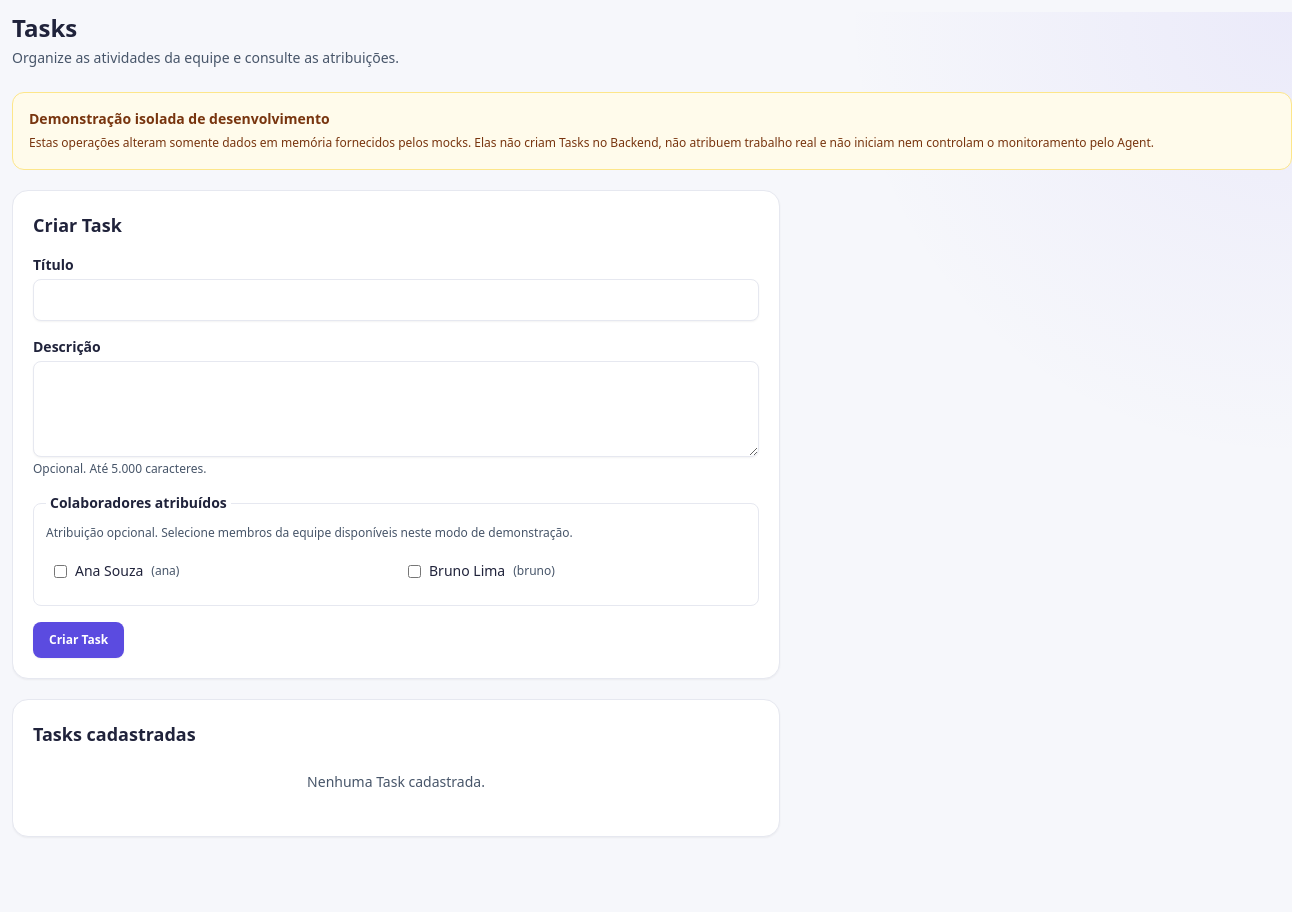
TasksPage › valida os campos e cria uma Task com seleção múltipla nos mocks
Expected: the text "Nenhuma Task cadastrada." is shown, [307,772,485,791]
Click the button "Criar Task": (79, 640) [33,622,124,658]
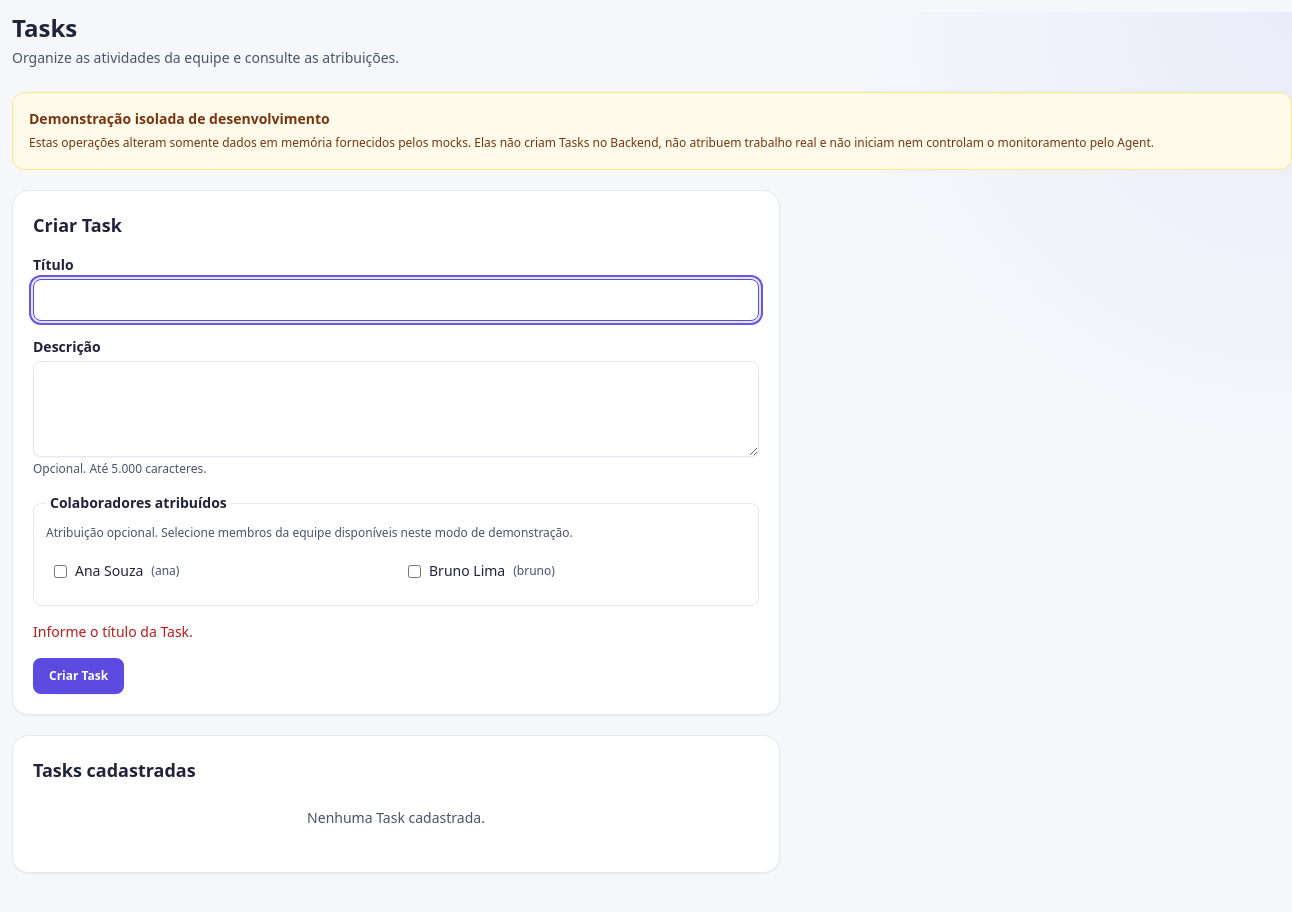
Expected: the message shows "Informe o título", [33,622,193,641]
In the field labelled "Título": (396, 300) [33,279,759,321], type "  Revisão do produto  "
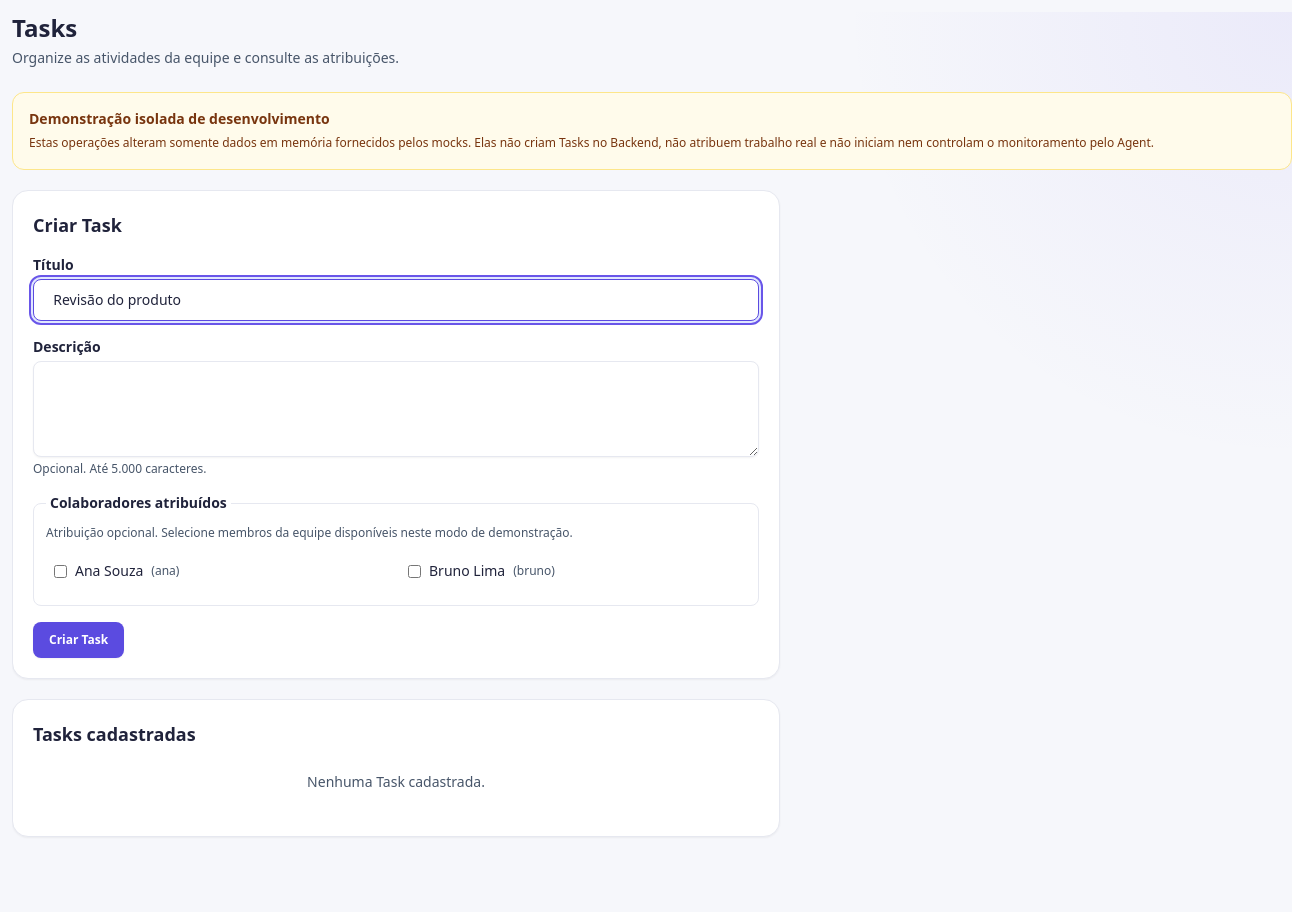
In the text box labelled "Descrição": (396, 409) [33,361,759,457], type "  Conferir as entregas da sprint  "
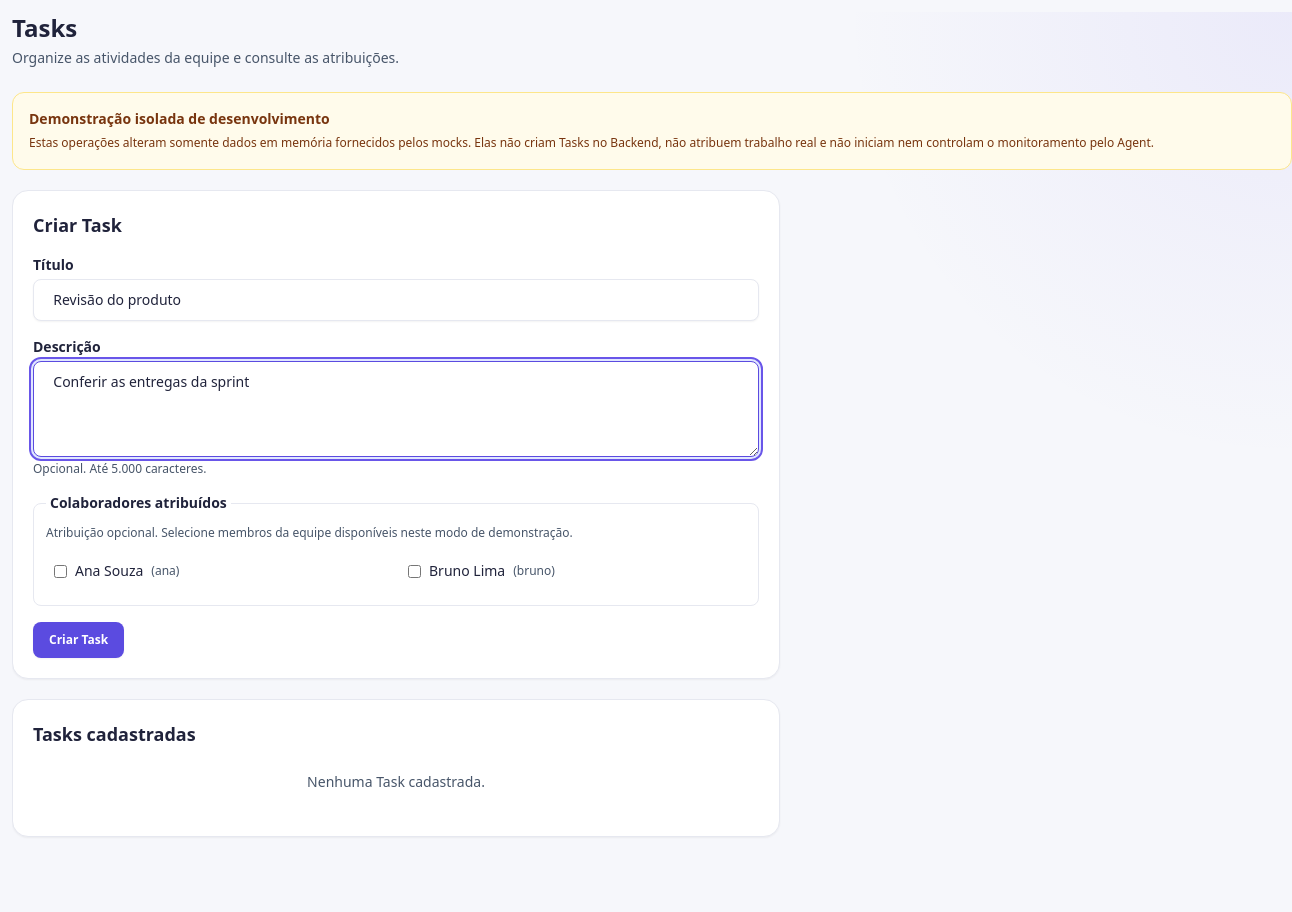
Click the checkbox labelled "Ana Souza (ana)": (60, 571) [54,564,67,578]
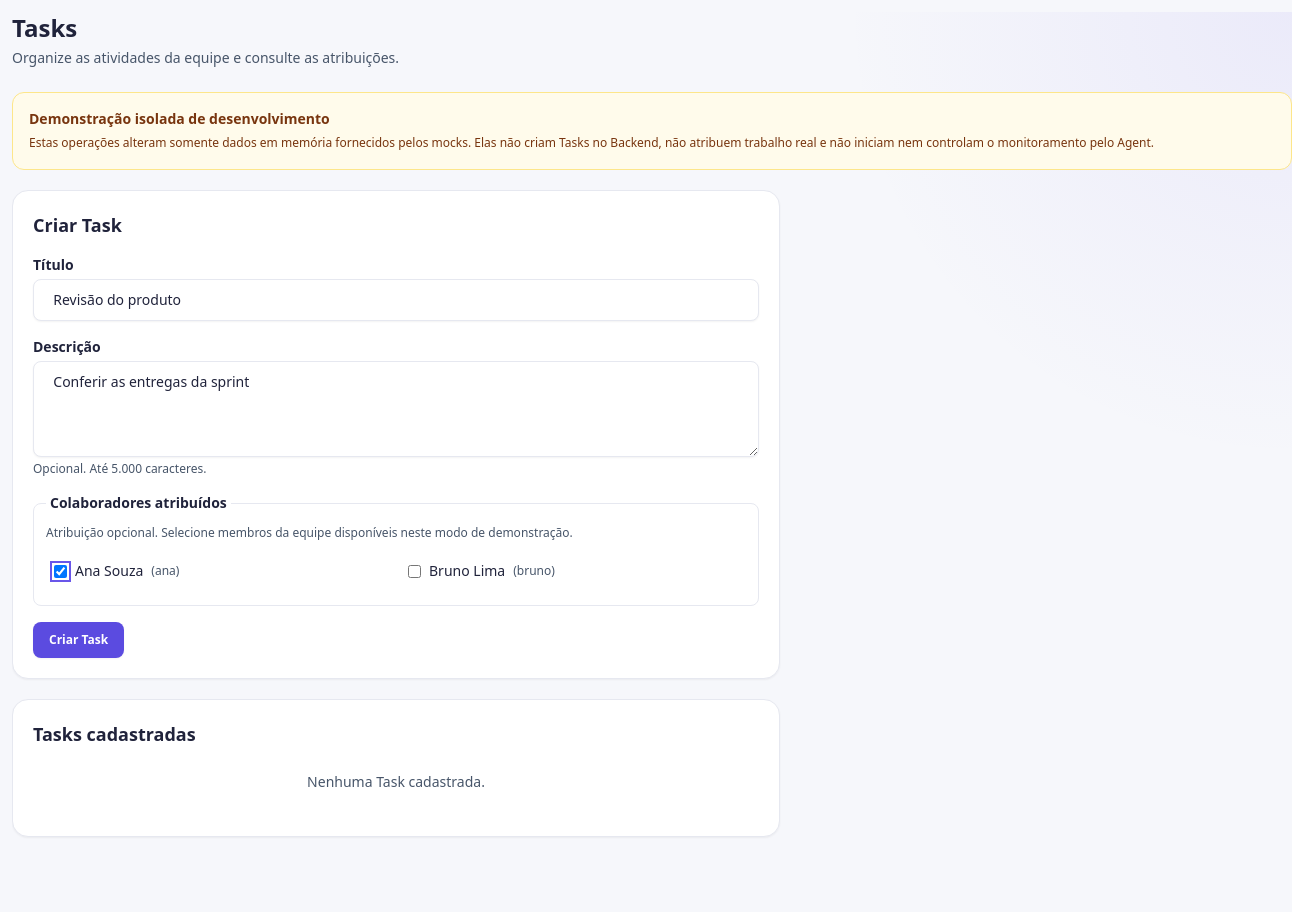
Click the checkbox labelled "Bruno Lima (bruno)": (414, 571) [408,564,421,578]
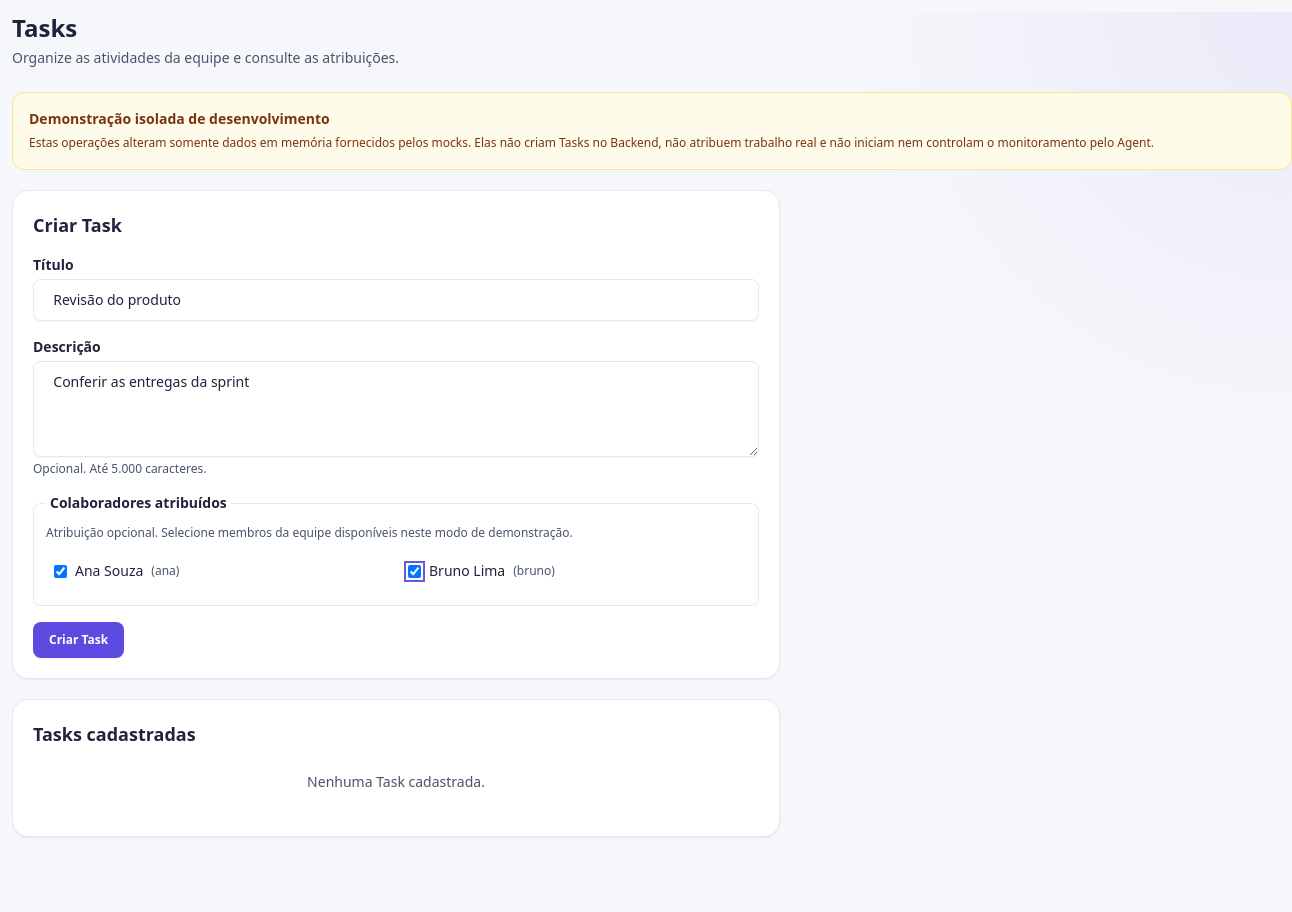
Click the button "Criar Task": (79, 640) [33,622,124,658]
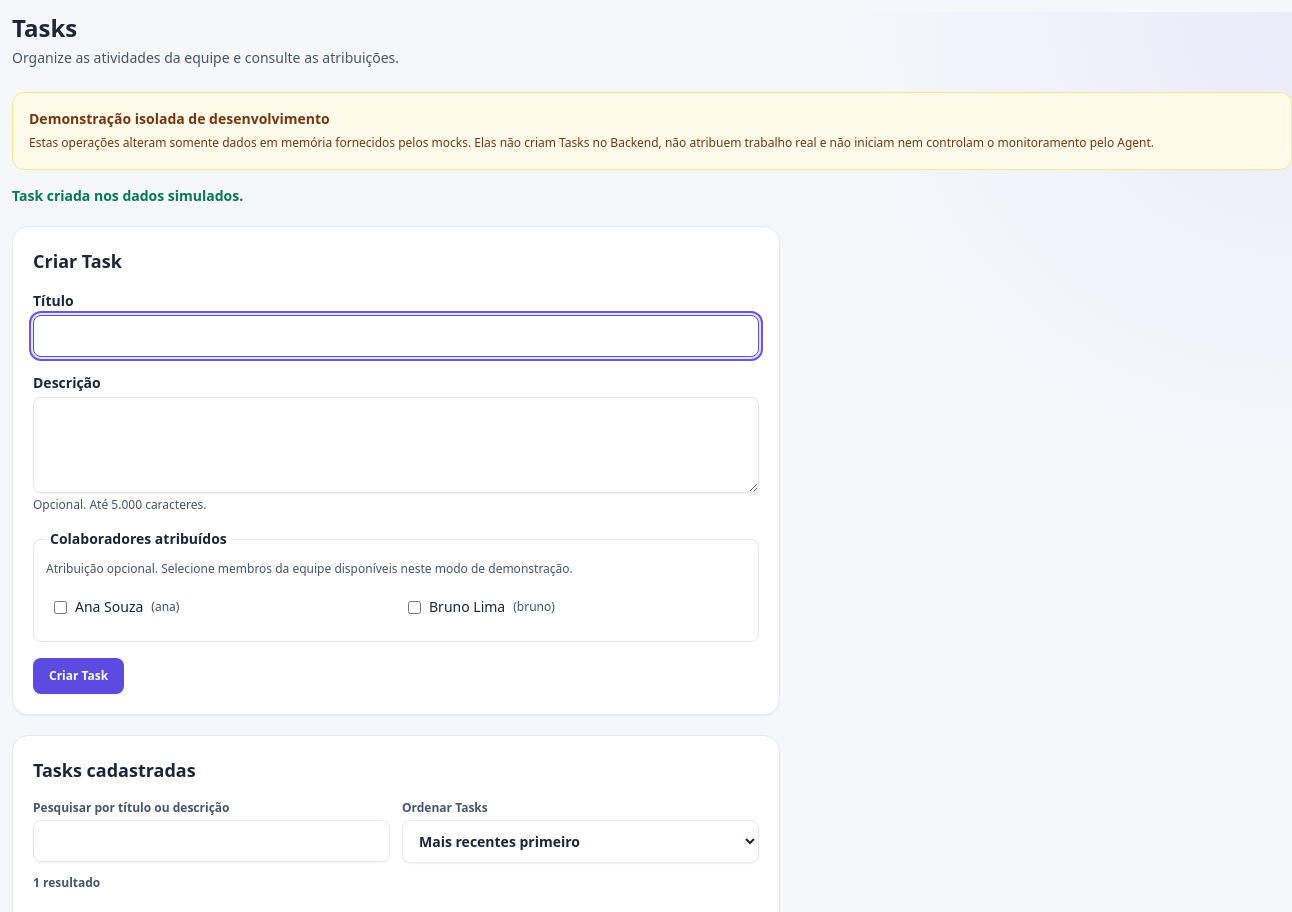
Expected: the text "Task criada nos dados simulados." is shown, [12,186,243,205]
Expected: the field labelled "Título" is empty, [33,315,759,357]
Expected: the text box labelled "Descrição" is empty, [33,397,759,493]
